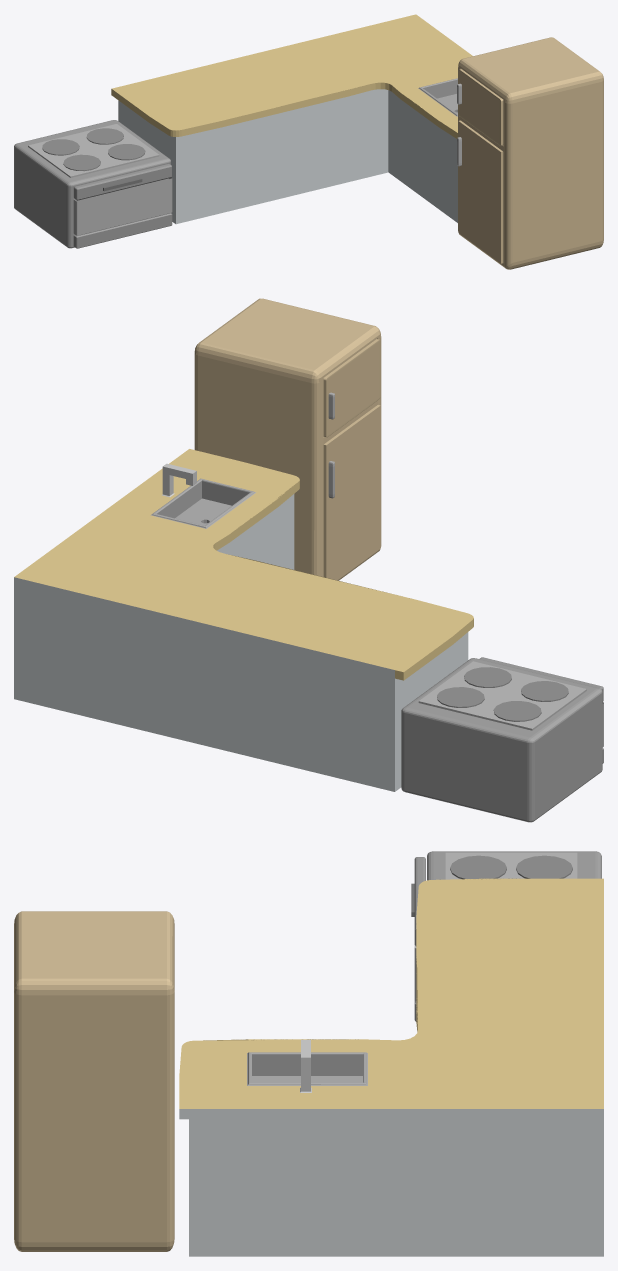
File: cozinha.fbx
3 renders of one model, top to bottom at view 1: azimuth 30°, elevation 25°; view 2: azimuth 150°, elevation 25°; view 3: azimuth 270°, elevation 25°, orthographic. The views are drawn at different scales.
Parts seen in each view (by area): view 1: bancada, frig, fogao.001; view 2: bancada, frig, fogao.001, torneira; view 3: bancada, frig, fogao.001, torneira.
Boxes of the visible parts, <box> form: bancada: <box>111,14,472,224</box>; frig: <box>457,37,603,269</box>; fogao.001: <box>14,120,172,248</box>; bancada: <box>14,449,473,791</box>; frig: <box>194,298,381,580</box>; fogao.001: <box>401,657,603,822</box>; torneira: <box>162,463,196,497</box>; bancada: <box>179,878,603,1256</box>; frig: <box>14,911,174,1251</box>; fogao.001: <box>414,851,601,1021</box>; torneira: <box>300,1040,311,1092</box>.
Size of the model in its own units: 2033 by 850 by 1658.
